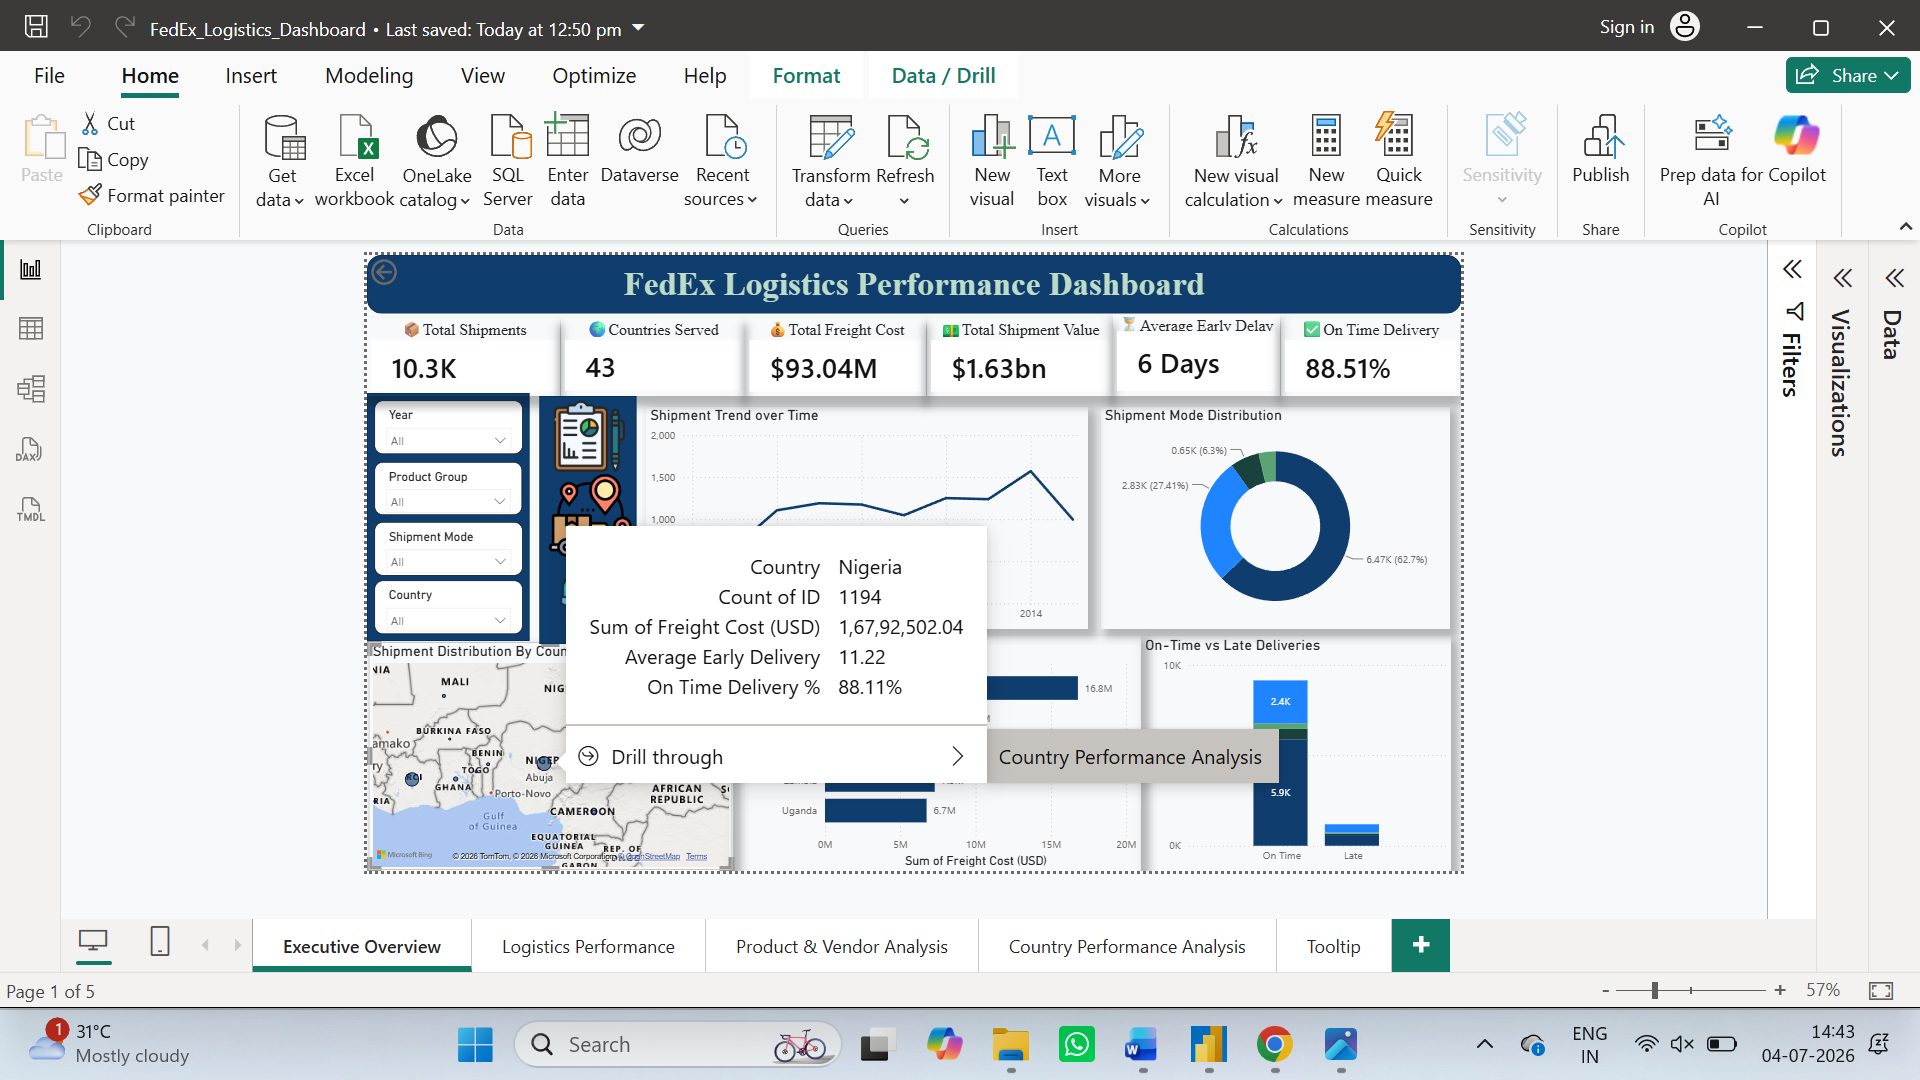

The dashboard page shown, as its layout file describes it:
{"tool":"powerbi","page":{"name":"Executive Overview","canvas":[1280,720],"ordinal":0},"visuals":[{"type":"shape","box":[0,0,1280,68.5],"z":0},{"type":"cardVisual","title":"📦Total Shipments ","fields":{"Data":["CountNonNull(SCMS_Cleaned.ID)"]},"box":[0,74,226.2,91.2],"z":0,"group":"g2"},{"type":"shape","box":[0,162,190,290],"z":0,"group":"g1"},{"type":"shape","box":[201.7,165,113.3,290],"z":0,"group":"g3"},{"type":"cardVisual","title":"🌍Countries Served","fields":{"Data":["Count(SCMS_Cleaned.Country)"]},"box":[226.2,74,215.6,90.6],"z":1000,"group":"g2"},{"type":"lineChart","title":"Shipment Trend over Time","fields":{"Y":["CountNonNull(SCMS_Cleaned.ID)"],"Category":["Calendar.Date.Variation.Date Hierarchy.Year","Calendar.Date.Variation.Date Hierarchy.Quarter","Calendar.Date.Variation.Date Hierarchy.Month","Calendar.Date.Variation.Date Hierarchy.Day"]},"box":[334.4,175,517.2,260.9],"z":1000},{"type":"cardVisual","title":"💰Total Freight Cost","fields":{"Data":["Sum(SCMS_Cleaned.Freight Cost (USD))"]},"box":[441.9,74,211.9,91.2],"z":2000,"group":"g2"},{"type":"donutChart","title":"Shipment Mode Distribution","fields":{"Y":["CountNonNull(SCMS_Cleaned.ID)"],"Category":["SCMS_Cleaned.Shipment Mode"]},"box":[858.3,176.7,408.3,260],"z":2000},{"type":"cardVisual","title":"💵Total Shipment Value","fields":{"Data":["Sum(SCMS_Cleaned.Line Item Value)"]},"box":[653.8,74,218.1,91.2],"z":3000,"group":"g2"},{"type":"map","title":"Shipment Distribution By Country","fields":{"Category":["SCMS_Cleaned.Country"],"Size":["CountNonNull(SCMS_Cleaned.ID)"]},"box":[2,452,426,268],"z":3000},{"type":"cardVisual","title":"⏳Average Early Delay","fields":{"Data":["SCMS_Cleaned.Average Early Delivery"]},"box":[871.7,69,195,95.8],"z":4000,"group":"g2"},{"type":"barChart","title":"Top 5 countries by Freight Cost","fields":{"Category":["SCMS_Cleaned.Country"],"Y":["Sum(SCMS_Cleaned.Freight Cost (USD))"]},"box":[426.7,445,478.3,275],"z":4000},{"type":"cardVisual","title":"✅On Time Delivery","fields":{"Data":["SCMS_Cleaned.On Time Delivery %"]},"box":[1068.1,74,210,91.2],"z":5000,"group":"g2"},{"type":"columnChart","title":"On-Time vs Late Deliveries","fields":{"Category":["SCMS_Cleaned.Delivery Status"],"Y":["CountNonNull(SCMS_Cleaned.ID)"],"Series":["SCMS_Cleaned.Shipment Mode"]},"box":[905,445,361.7,275],"z":5000},{"type":"group","id":"g1","title":"Group 1","box":[0,162,190,290],"z":6000},{"type":"group","id":"g2","title":"Group 2","box":[0,69,1278.1,96.2],"z":7000},{"type":"group","id":"g3","title":"Group 3","box":[201.7,165,113.3,290],"z":8000},{"type":"slicer","fields":{"Values":["SCMS_Cleaned.Country"]},"box":[8,382,173.2,62.8],"z":8000,"group":"g1"},{"type":"actionButton","box":[0,0,100,40],"z":9000},{"type":"slicer","fields":{"Values":["Calendar.Year"]},"box":[8.3,170.3,173.3,62.5],"z":9000,"group":"g1"},{"type":"image","box":[206.7,256.7,108.3,96.7],"z":9000,"group":"g3"},{"type":"image","box":[211.7,170,95,83.3],"z":10000,"group":"g3"},{"type":"slicer","fields":{"Values":["SCMS_Cleaned.Shipment Mode"]},"box":[8,312.4,173.6,62.4],"z":11000,"group":"g1"},{"type":"image","box":[206.7,350,108.3,95],"z":11000,"group":"g3"},{"type":"slicer","fields":{"Values":["SCMS_Cleaned.Product Group"]},"box":[8,242.8,172.8,62],"z":12000,"group":"g1"}]}

Visuals, with their boxes on the page's 1280x720 design canvas (x1, y1, x2, y2). These are canvas units, not pixel positions in the 1920x1080 screenshot, which may show the page scaled, cropped or inside an application window:
shape: box(0, 0, 1280, 68)
"📦Total Shipments " cardVisual: box(0, 74, 226, 165)
shape: box(0, 162, 190, 452)
shape: box(202, 165, 315, 455)
"🌍Countries Served" cardVisual: box(226, 74, 442, 165)
"Shipment Trend over Time" lineChart: box(334, 175, 852, 436)
"💰Total Freight Cost" cardVisual: box(442, 74, 654, 165)
"Shipment Mode Distribution" donutChart: box(858, 177, 1267, 437)
"💵Total Shipment Value" cardVisual: box(654, 74, 872, 165)
"Shipment Distribution By Country" map: box(2, 452, 428, 720)
"⏳Average Early Delay" cardVisual: box(872, 69, 1067, 165)
"Top 5 countries by Freight Cost" barChart: box(427, 445, 905, 720)
"✅On Time Delivery" cardVisual: box(1068, 74, 1278, 165)
"On-Time vs Late Deliveries" columnChart: box(905, 445, 1267, 720)
"Group 1" group: box(0, 162, 190, 452)
"Group 2" group: box(0, 69, 1278, 165)
"Group 3" group: box(202, 165, 315, 455)
slicer - SCMS_Cleaned.Country: box(8, 382, 181, 445)
actionButton: box(0, 0, 100, 40)
slicer - Calendar.Year: box(8, 170, 182, 233)
image: box(207, 257, 315, 353)
image: box(212, 170, 307, 253)
slicer - SCMS_Cleaned.Shipment Mode: box(8, 312, 182, 375)
image: box(207, 350, 315, 445)
slicer - SCMS_Cleaned.Product Group: box(8, 243, 181, 305)
